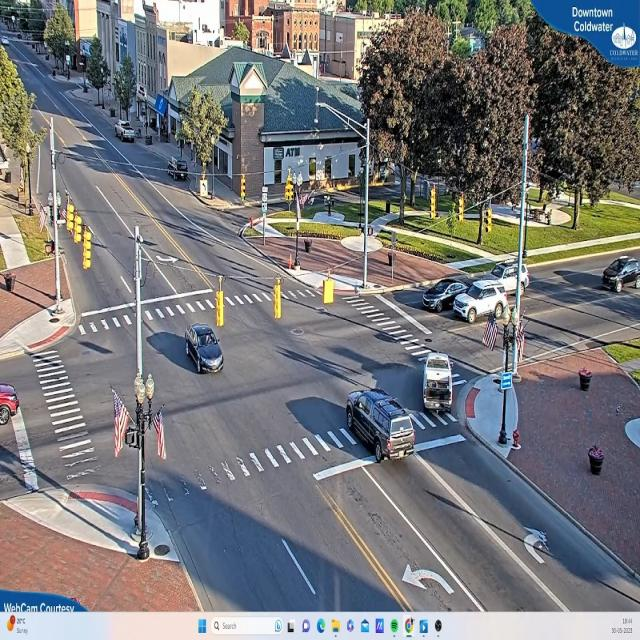car: (346, 390, 416, 463), (453, 286, 511, 324), (188, 324, 225, 374), (479, 264, 531, 299), (423, 357, 454, 413), (421, 279, 471, 312), (602, 257, 640, 293), (1, 384, 22, 424), (117, 121, 138, 142)
